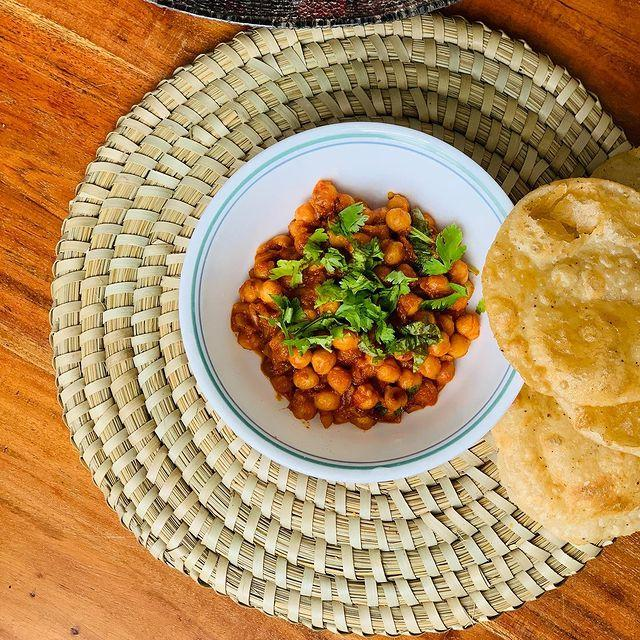Chole: (226, 194, 479, 424)
